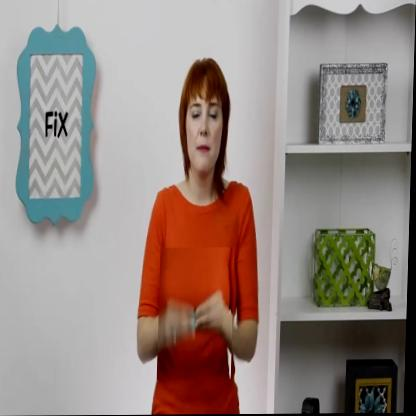Fix: (160, 248, 237, 380)
